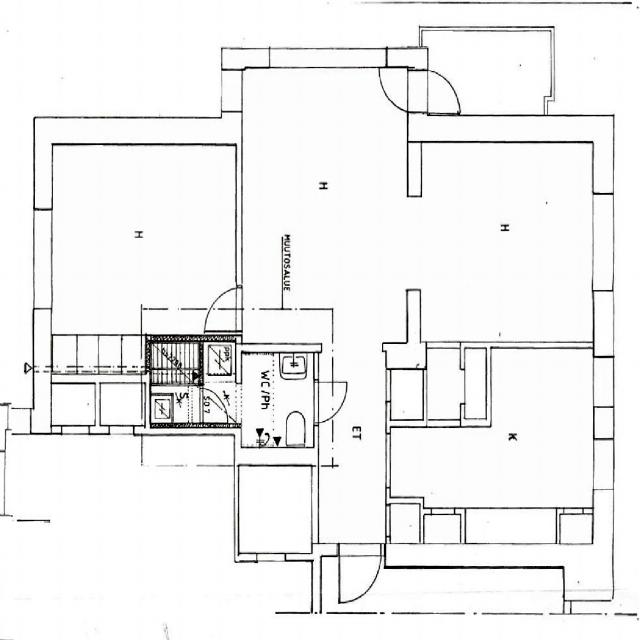door: (339, 543, 381, 610), (375, 70, 428, 112), (408, 70, 460, 112), (202, 288, 242, 332), (314, 381, 351, 423), (200, 388, 230, 422)
